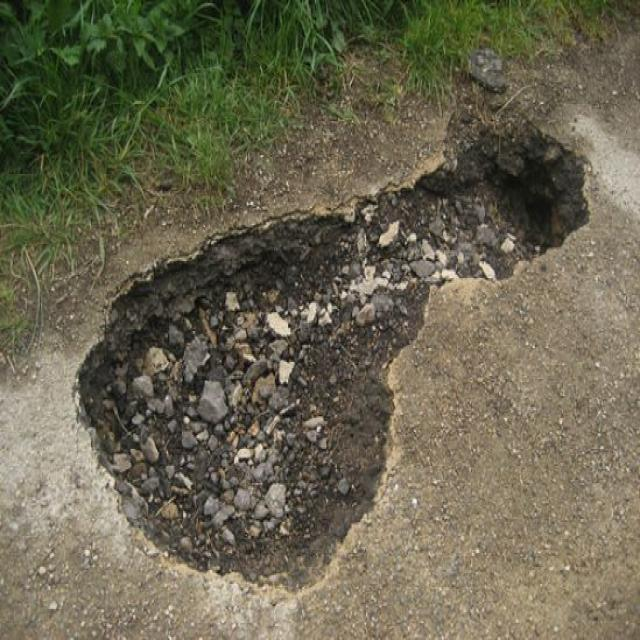pothole: (69, 111, 594, 600)
